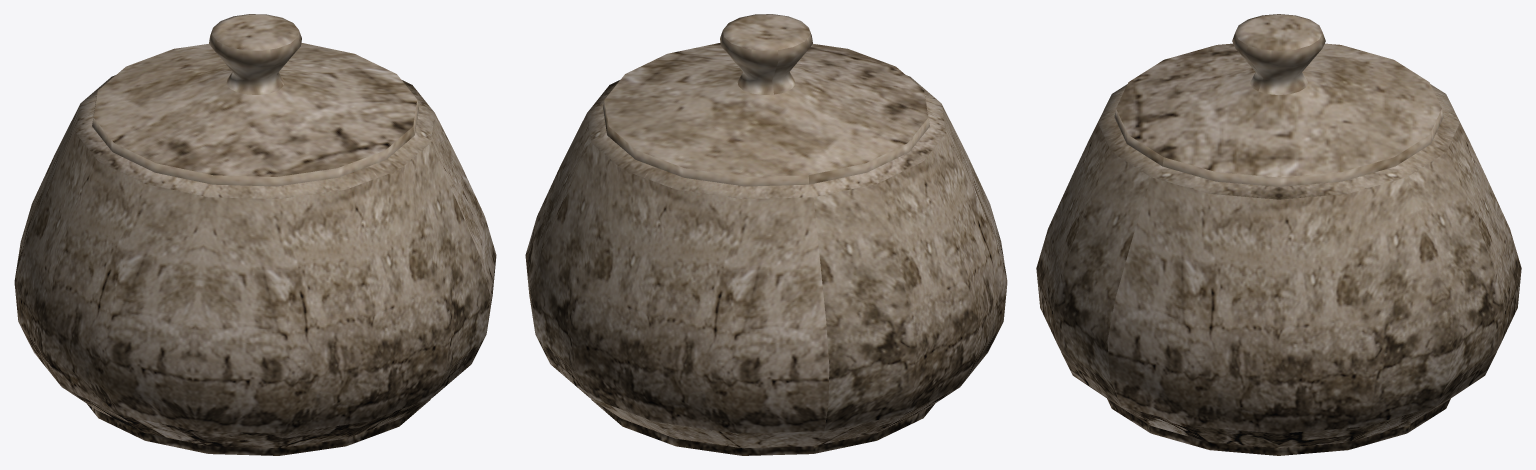
The model's file is Pot.gltf.
3 renders of one model, left to right at view 1: azimuth 30°, elevation 25°; view 2: azimuth 150°, elevation 25°; view 3: azimuth 270°, elevation 25°, orthographic.
Visible parts, largest first — view 1: Cylinder, Cylinder.002; view 2: Cylinder, Cylinder.002; view 3: Cylinder, Cylinder.002.
Part boxes in pixels (<box>): Cylinder: <box>14,75,496,455</box>; Cylinder.002: <box>92,14,418,186</box>; Cylinder: <box>525,75,1007,455</box>; Cylinder.002: <box>603,14,929,186</box>; Cylinder: <box>1036,84,1521,455</box>; Cylinder.002: <box>1114,14,1443,186</box>.
Bounding box in the file's own units: 1.2 × 0.9733 × 1.2.
1 material, 1 textured.
